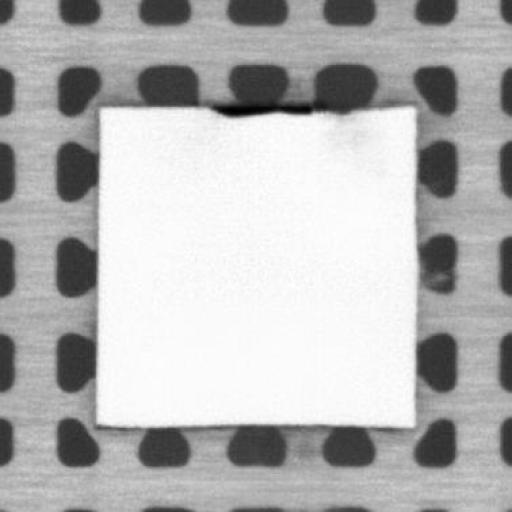DIE_BROKEN: (206, 99, 317, 118)
